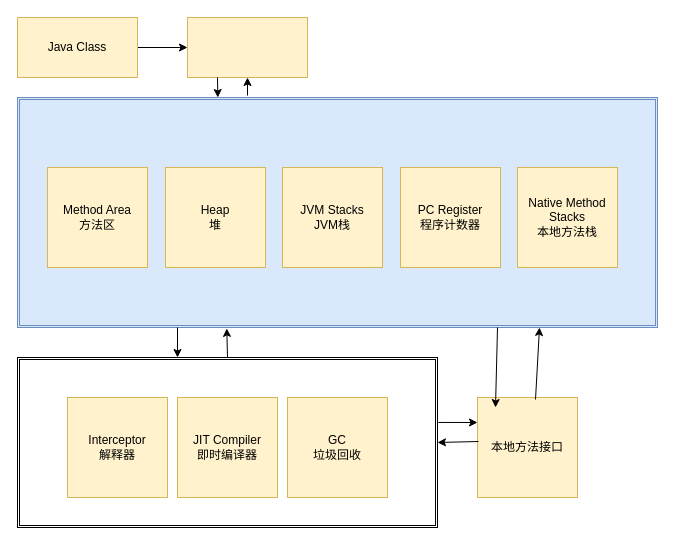
This 675x545 diagram has some shape labels left out. The box of each missing label's shape, as (x1, y1, x2, y2) in pixels:
CLassLoader: (186, 16, 308, 78)
JVM内存结构: (16, 96, 658, 328)
执行引擎: (16, 356, 438, 528)
